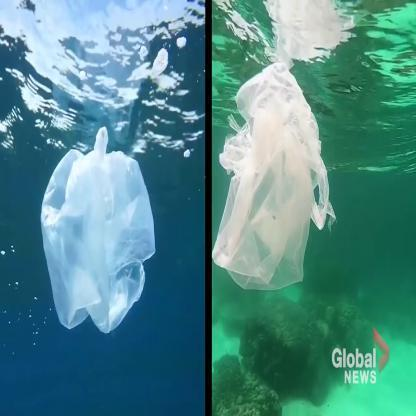Rác: (214, 62, 320, 310), (46, 119, 160, 317)
